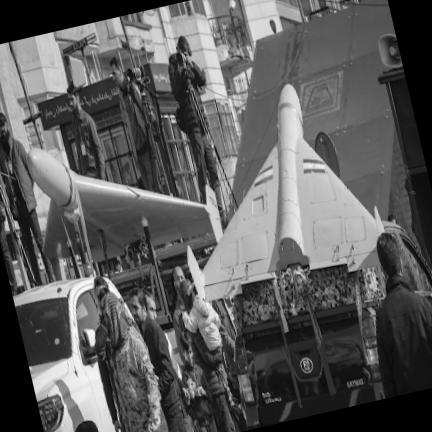Shahed: (187, 84, 382, 299), (27, 149, 222, 261)
